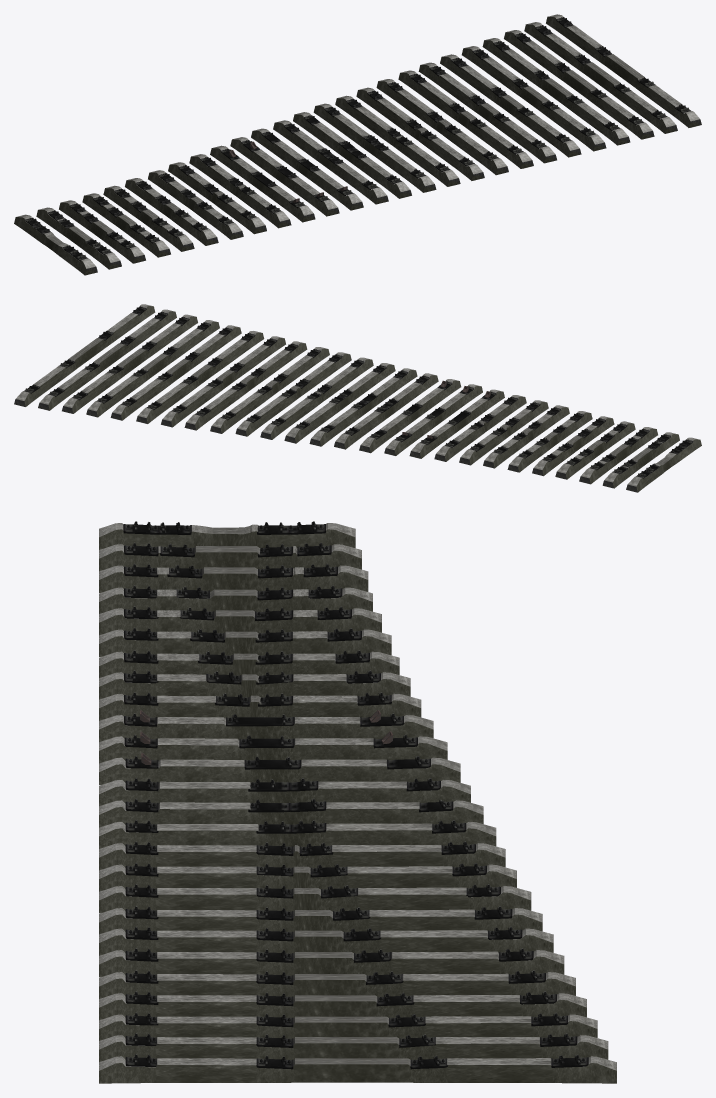
File: spala_str.fbx
3 views of the same model, one above another, from view 1: azimuth 30°, elevation 25°; view 2: azimuth 150°, elevation 25°; view 3: azimuth 270°, elevation 25° (orthographic). The views are drawn at different scales.
Visible parts, largest first — view 1: spala_str; view 2: spala_str; view 3: spala_str.
Part boxes in pixels (x1,y1,x2,y2): spala_str: [14, 14, 701, 275]; spala_str: [14, 304, 701, 492]; spala_str: [99, 521, 616, 1083].
Size of the model in its own units: 1560 by 32.86 by 627.
